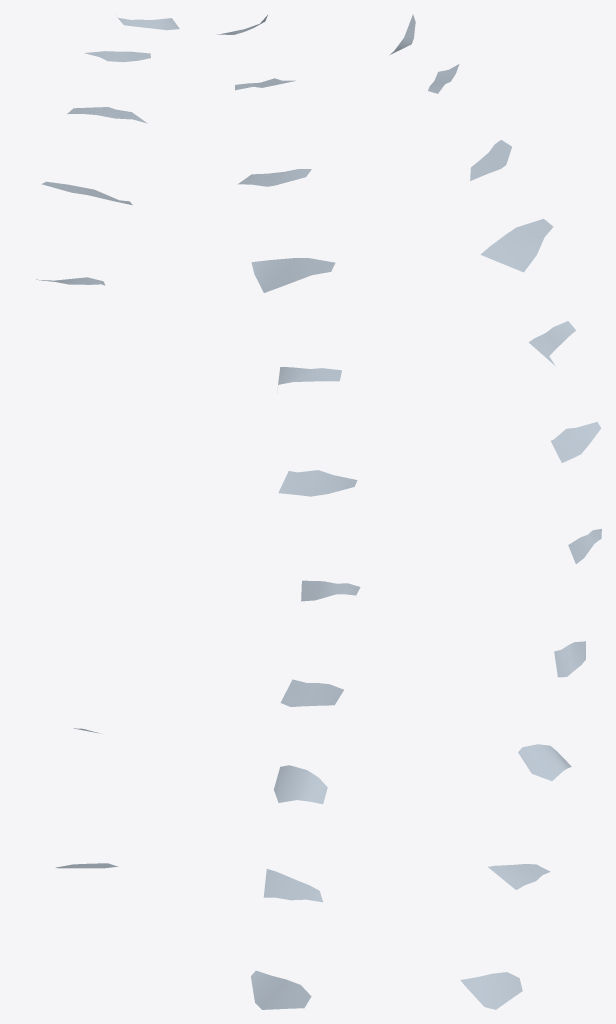
File: costotransverse-ligament-r.glb
The picture shows the model from 3 angles, left to right: view 1: azimuth 30°, elevation 25°; view 2: azimuth 210°, elevation 25°; view 3: azimuth 270°, elevation 25°; orthographic projection. The views are drawn at different scales.
Parts seen in each view (by area): view 1: Costotransverse ligament.r; view 2: Costotransverse ligament.r; view 3: Costotransverse ligament.r.
Boxes of the visible parts, bbox=[...] form: Costotransverse ligament.r: bbox=[36, 17, 179, 868]; Costotransverse ligament.r: bbox=[217, 15, 360, 1009]; Costotransverse ligament.r: bbox=[390, 14, 601, 1009].
Size of the model in its own units: 0.02 by 0.2668 by 0.0529.
